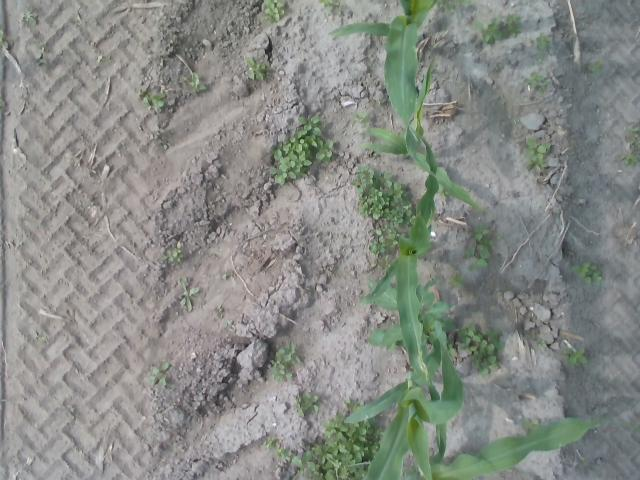Maize: (347, 210, 482, 438), (331, 1, 436, 176), (364, 56, 481, 208), (353, 412, 604, 480)
Weeds: (302, 404, 378, 479), (268, 116, 336, 184), (354, 166, 419, 224), (458, 325, 505, 376), (268, 342, 304, 380), (468, 220, 496, 266), (477, 15, 520, 43), (522, 136, 552, 171), (572, 258, 604, 286), (244, 56, 274, 81), (625, 123, 640, 171), (370, 228, 399, 252), (267, 442, 301, 462), (179, 278, 201, 308), (182, 70, 207, 96), (566, 346, 590, 372), (138, 86, 166, 108), (148, 361, 170, 388), (528, 70, 548, 96), (262, 1, 286, 22), (298, 392, 320, 414), (164, 247, 184, 267), (535, 32, 552, 55), (20, 9, 38, 27), (590, 62, 604, 78)
